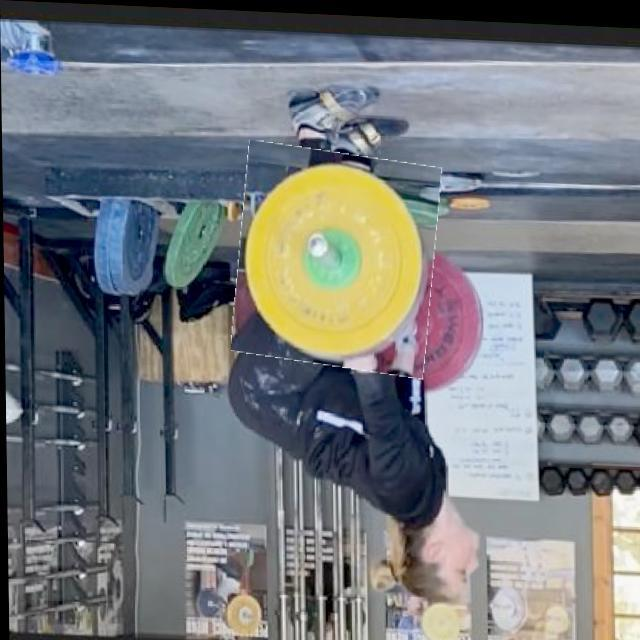barbell: (233, 142, 439, 372)
